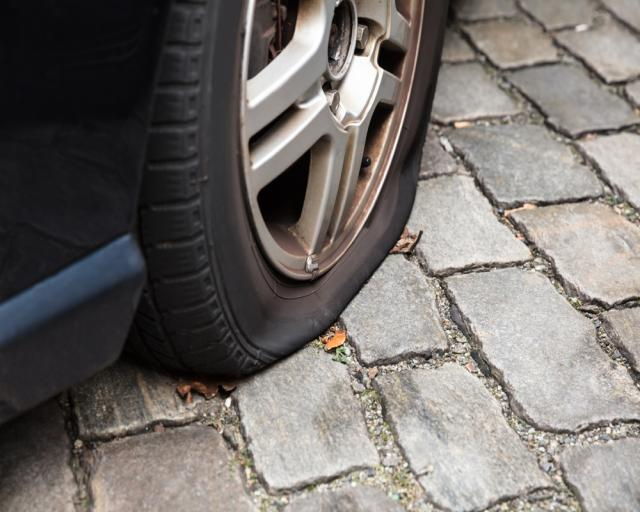tire flat: (131, 0, 450, 379)
